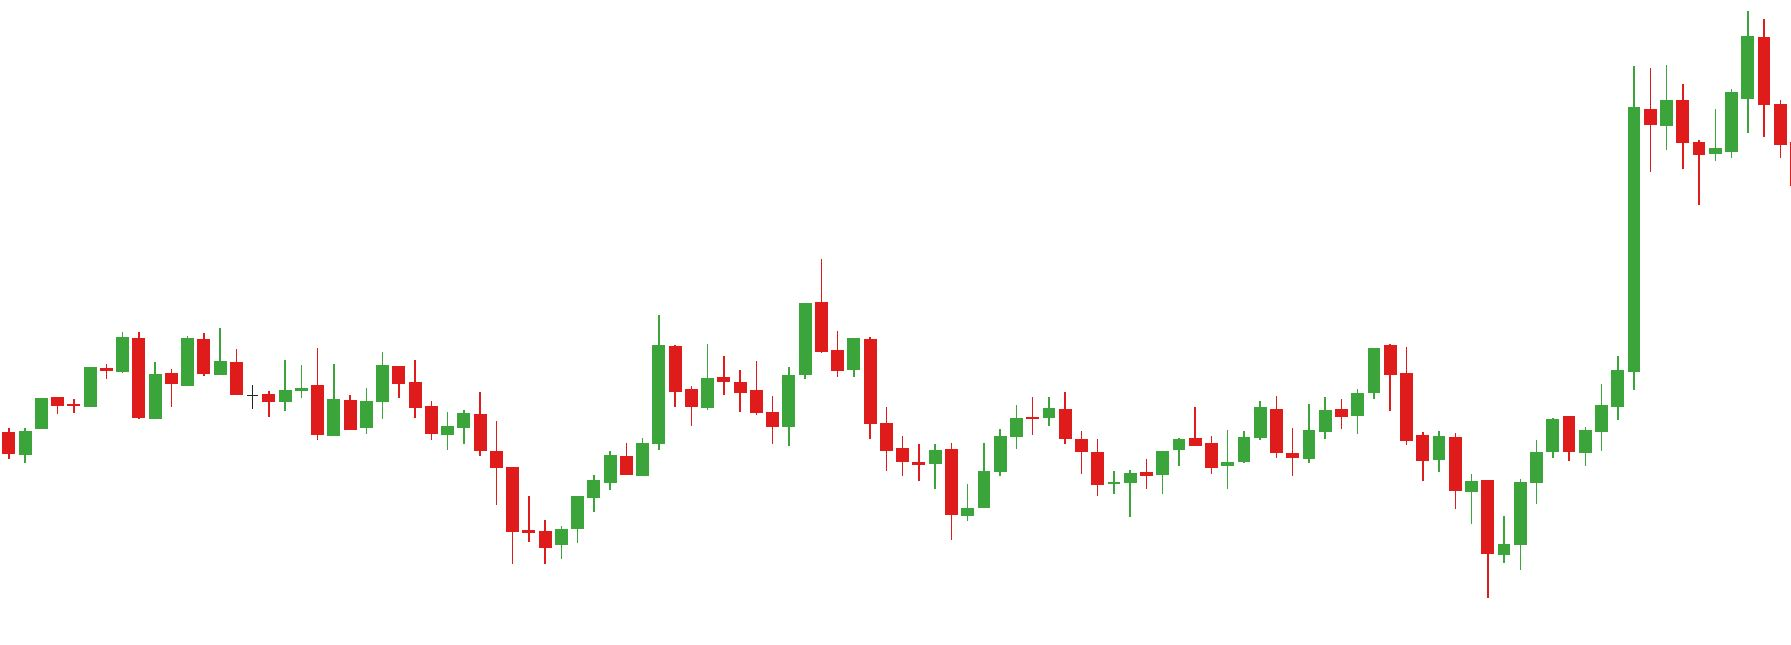sell: (648, 260, 832, 404), (1640, 14, 1774, 146)
